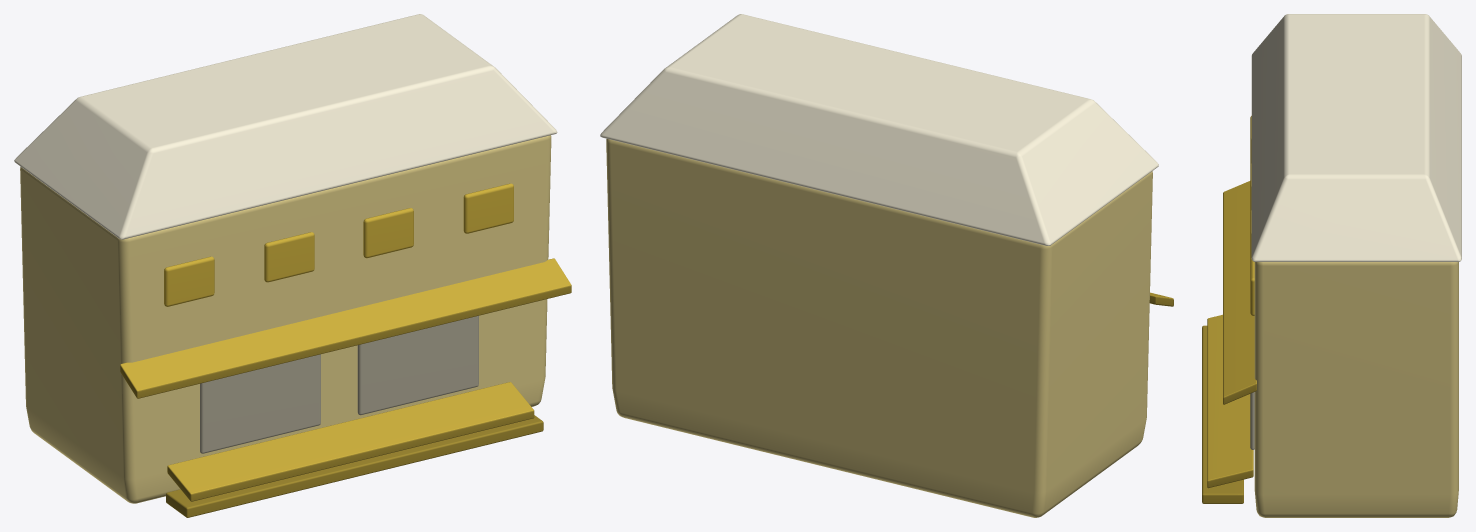
The model's file is 12_yellow_building.glb.
3 views of the same model, side by side, from view 1: azimuth 30°, elevation 25°; view 2: azimuth 150°, elevation 25°; view 3: azimuth 270°, elevation 25° (orthographic). The views are drawn at different scales.
Parts seen in each view (by area): view 1: Soft yellow building body, Cream hipped roof, Full width middle canopy, Lower projecting gold canopy, Lower muted window 02, Lower muted window 01, Lower golden sill, Upper ochre window 01, Upper ochre window 02, Upper ochre window 03, Upper ochre window 04; view 2: Soft yellow building body, Cream hipped roof; view 3: Soft yellow building body, Cream hipped roof, Full width middle canopy, Lower projecting gold canopy, Lower golden sill.
Part boxes in pixels (<box>): Soft yellow building body: <box>20,135,551,503</box>; Cream hipped roof: <box>14,14,557,239</box>; Full width middle canopy: <box>120,258,571,398</box>; Lower projecting gold canopy: <box>167,382,534,501</box>; Lower muted window 02: <box>357,315,478,415</box>; Lower muted window 01: <box>200,354,320,453</box>; Lower golden sill: <box>166,415,543,517</box>; Upper ochre window 01: <box>164,256,214,306</box>; Upper ochre window 02: <box>264,232,314,282</box>; Upper ochre window 03: <box>363,208,413,258</box>; Upper ochre window 04: <box>463,183,513,233</box>; Soft yellow building body: <box>606,139,1152,517</box>; Cream hipped roof: <box>600,14,1158,245</box>; Soft yellow building body: <box>1254,262,1458,517</box>; Cream hipped roof: <box>1251,14,1461,261</box>; Full width middle canopy: <box>1223,181,1256,404</box>; Lower projecting gold canopy: <box>1207,314,1253,488</box>; Lower golden sill: <box>1202,325,1243,503</box>.
Bounding box in the file's own units: 4.33 × 3.2 × 2.29.
